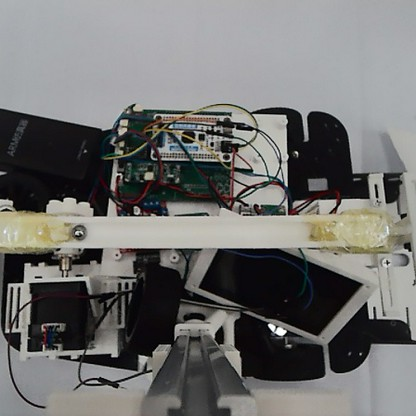ironball: (70, 221, 86, 240)
